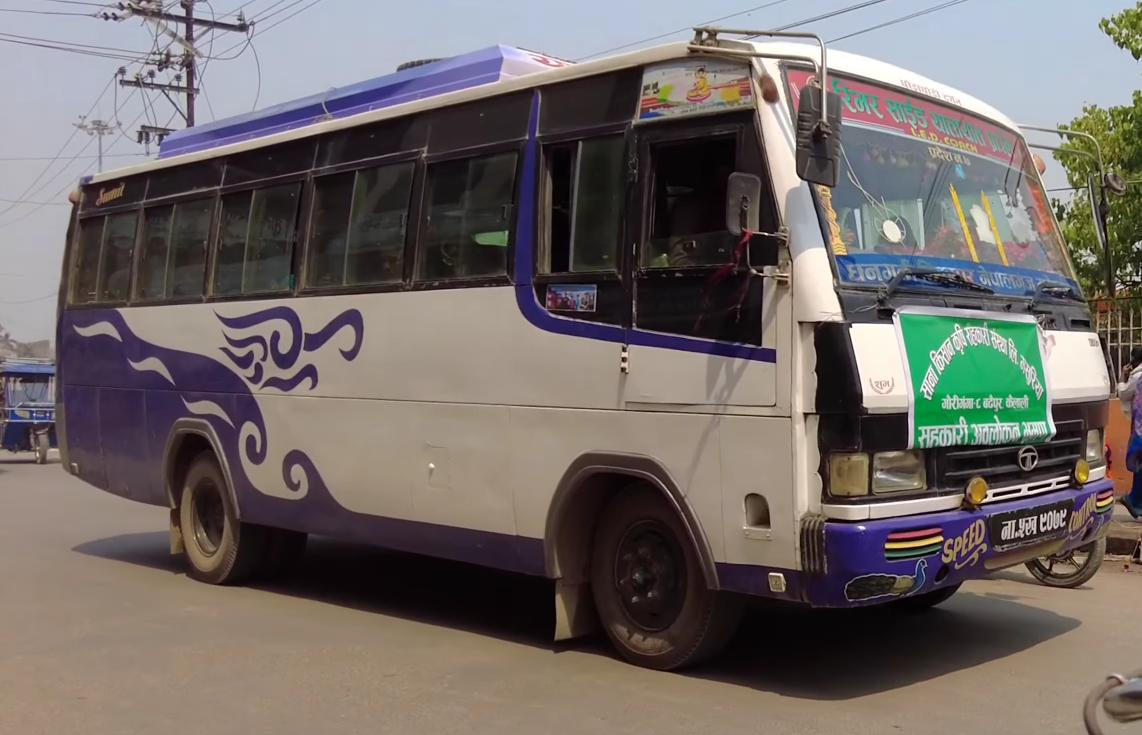bus: (47, 23, 1117, 679)
